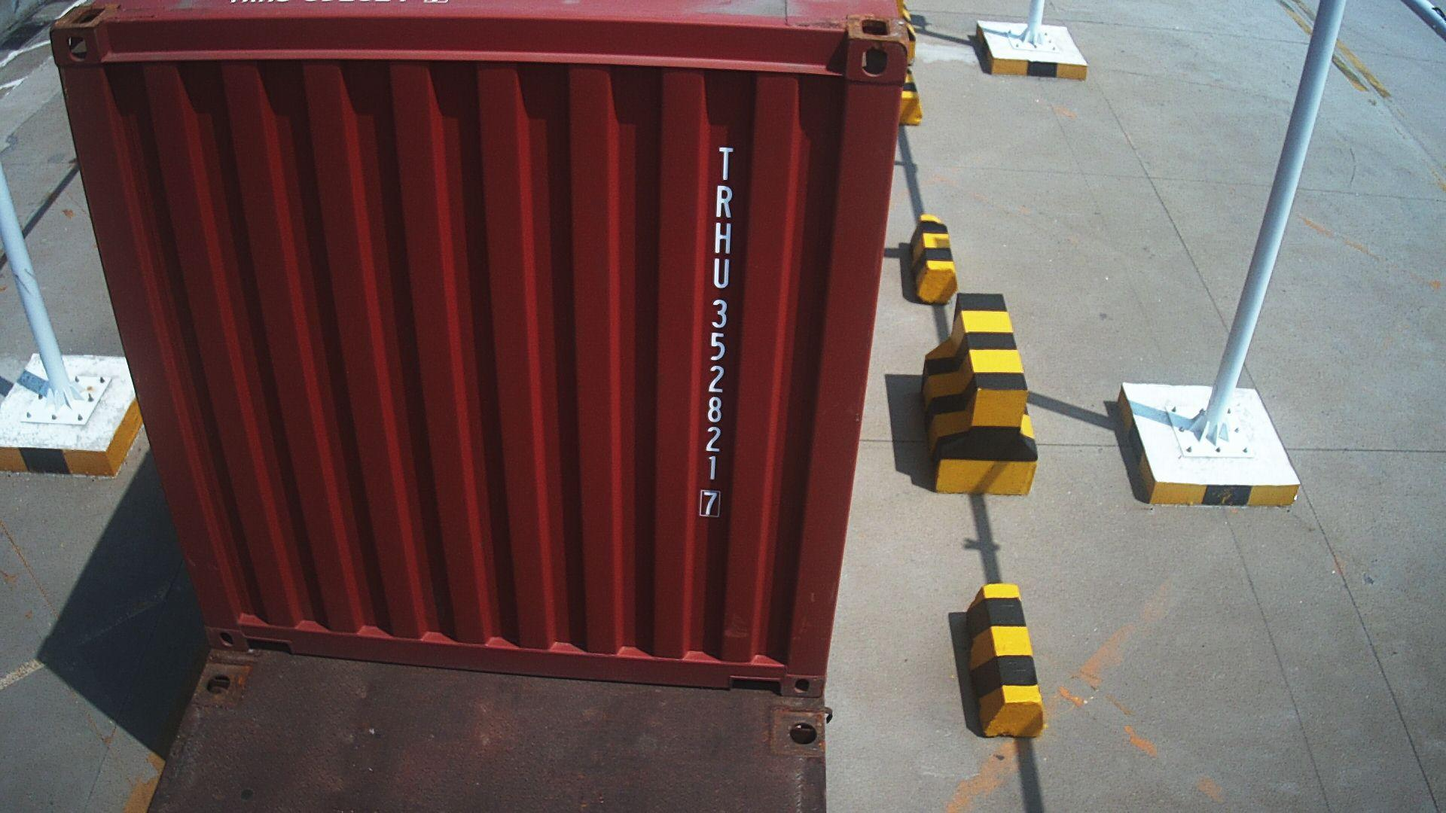container-numbers: (693, 141, 740, 522)
